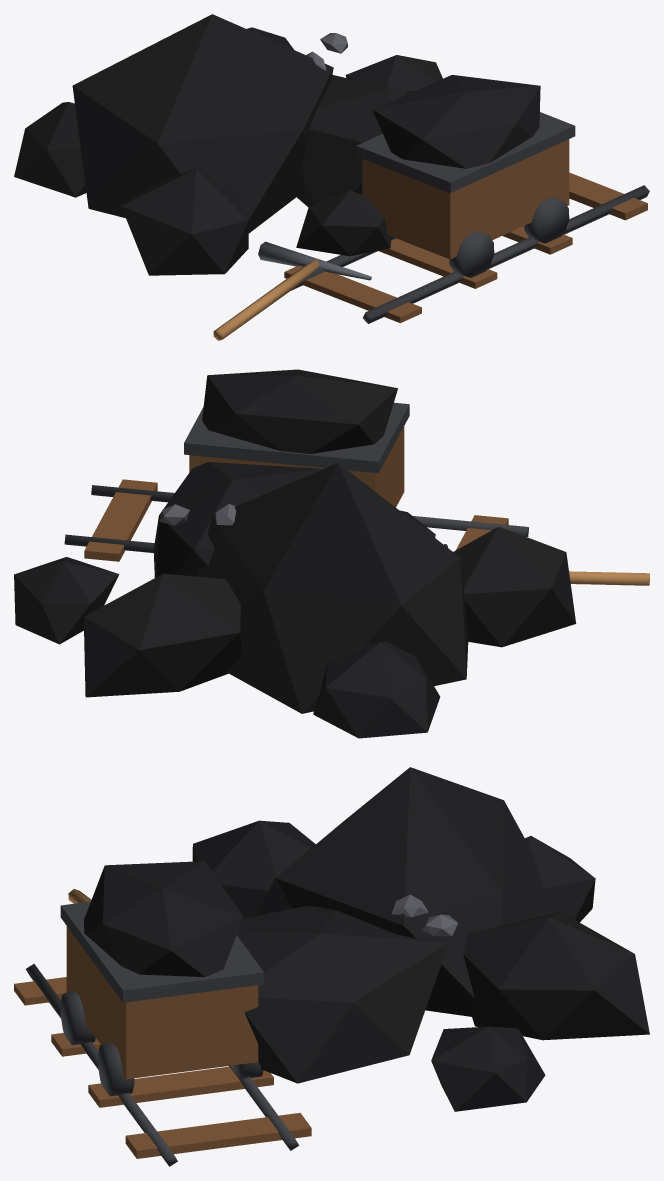
The model's file is resource_coal.fbx.
3 views of the same model, one above another, from view 1: azimuth 30°, elevation 25°; view 2: azimuth 150°, elevation 25°; view 3: azimuth 270°, elevation 25° (orthographic). The views are drawn at different scales.
Parts seen in each view (by area): view 1: resource_coal_coal_00, resource_coal_wood#7a5232.002_03, resource_coal_cartiron.001_02, resource_coal_wood#b08050.005_04, resource_coal_pickiron.004_05, resource_coal_coalsp_01; view 2: resource_coal_coal_00, resource_coal_cartiron.001_02, resource_coal_wood#7a5232.002_03, resource_coal_wood#b08050.005_04, resource_coal_coalsp_01; view 3: resource_coal_coal_00, resource_coal_wood#7a5232.002_03, resource_coal_cartiron.001_02, resource_coal_coalsp_01.
Part boxes in pixels (left/top/right/bottom): resource_coal_coal_00: left=14, top=14, right=540, bottom=275; resource_coal_wood#7a5232.002_03: left=284, top=139, right=647, bottom=323; resource_coal_cartiron.001_02: left=291, top=112, right=649, bottom=323; resource_coal_wood#b08050.005_04: left=213, top=259, right=319, bottom=340; resource_coal_pickiron.004_05: left=258, top=241, right=371, bottom=280; resource_coal_coalsp_01: left=306, top=33, right=347, bottom=70; resource_coal_coal_00: left=14, top=369, right=576, bottom=738; resource_coal_cartiron.001_02: left=64, top=402, right=528, bottom=552; resource_coal_wood#7a5232.002_03: left=84, top=426, right=508, bottom=561; resource_coal_wood#b08050.005_04: left=569, top=571, right=649, bottom=585; resource_coal_coalsp_01: left=159, top=503, right=236, bottom=525; resource_coal_coal_00: left=83, top=767, right=649, bottom=1111; resource_coal_wood#7a5232.002_03: left=14, top=926, right=311, bottom=1158; resource_coal_cartiron.001_02: left=26, top=901, right=298, bottom=1166; resource_coal_coalsp_01: left=391, top=894, right=457, bottom=936.
Size of the model in its own units: 104 by 39.25 by 105.
